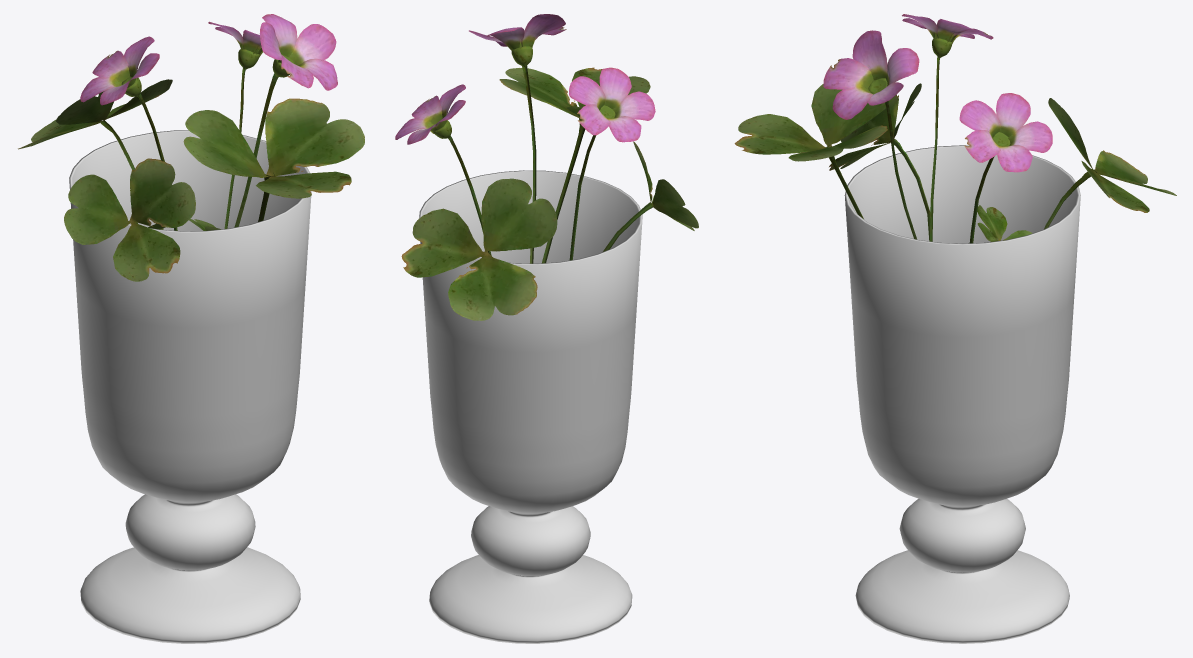
The model's file is vase-flowers.glb.
3 views of the same model, side by side, from view 1: azimuth 30°, elevation 25°; view 2: azimuth 150°, elevation 25°; view 3: azimuth 270°, elevation 25° (orthographic). The views are drawn at different scales.
Visible parts, largest first — view 1: GlassTransmission, Flowers2; view 2: GlassTransmission, Flowers2; view 3: GlassTransmission, Flowers2.
Part boxes in pixels (x1=…): GlassTransmission: x1=69, y1=130, x2=311, y2=643; Flowers2: x1=18, y1=14, x2=364, y2=281; GlassTransmission: x1=419, y1=170, x2=642, y2=643; Flowers2: x1=395, y1=14, x2=698, y2=320; GlassTransmission: x1=844, y1=145, x2=1080, y2=643; Flowers2: x1=734, y1=14, x2=1176, y2=243.
Bounding box in the file's own units: 0.0973 × 0.2032 × 0.1425.
2 materials, 1 textured.
